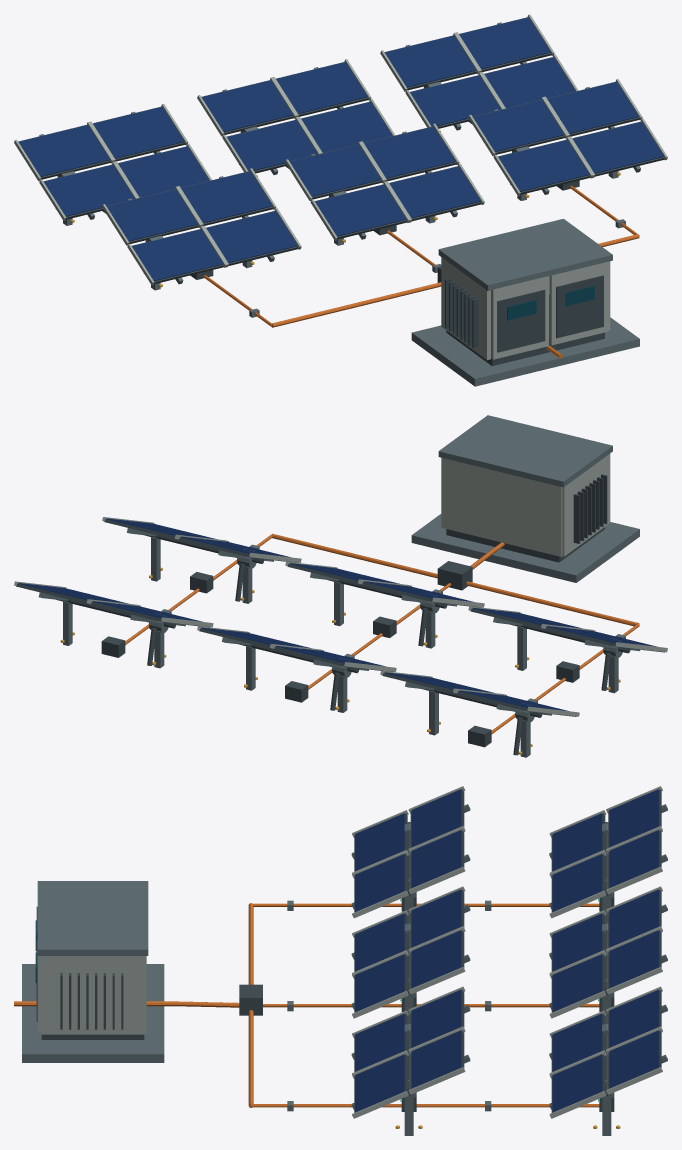
Rendered from solar_power_complex_lod1_d0.glb.
3 views of the same model, one above another, from view 1: azimuth 30°, elevation 25°; view 2: azimuth 150°, elevation 25°; view 3: azimuth 270°, elevation 25° (orthographic). The views are drawn at different scales.
Visible parts, largest first — view 1: SOLAR_GAME_MESH, SOLAR_GAME_MESH.001, SOLAR_GAME_MESH.002, SOLAR_GAME_MESH.003, SOLAR_GAME_MESH.004, SOLAR_GAME_MESH.006, SOLAR_GAME_MESH.005; view 2: SOLAR_GAME_MESH, SOLAR_GAME_MESH.002, SOLAR_GAME_MESH.001, SOLAR_GAME_MESH.004, SOLAR_GAME_MESH.005, SOLAR_GAME_MESH.006, SOLAR_GAME_MESH.003; view 3: SOLAR_GAME_MESH, SOLAR_GAME_MESH.001, SOLAR_GAME_MESH.002, SOLAR_GAME_MESH.003, SOLAR_GAME_MESH.005, SOLAR_GAME_MESH.006, SOLAR_GAME_MESH.004.
Boxes of the visible parts, x1,y1,x2,y2 form: SOLAR_GAME_MESH: [57, 81, 639, 386]; SOLAR_GAME_MESH.001: [102, 168, 301, 285]; SOLAR_GAME_MESH.002: [285, 123, 484, 240]; SOLAR_GAME_MESH.003: [468, 79, 667, 195]; SOLAR_GAME_MESH.004: [14, 103, 211, 220]; SOLAR_GAME_MESH.006: [380, 14, 578, 130]; SOLAR_GAME_MESH.005: [197, 59, 395, 174]; SOLAR_GAME_MESH: [56, 415, 639, 757]; SOLAR_GAME_MESH.002: [285, 561, 484, 607]; SOLAR_GAME_MESH.001: [468, 606, 667, 652]; SOLAR_GAME_MESH.004: [380, 670, 579, 716]; SOLAR_GAME_MESH.005: [197, 626, 396, 671]; SOLAR_GAME_MESH.006: [14, 581, 213, 627]; SOLAR_GAME_MESH.003: [102, 517, 301, 562]; SOLAR_GAME_MESH: [14, 822, 620, 1135]; SOLAR_GAME_MESH.001: [351, 786, 470, 918]; SOLAR_GAME_MESH.002: [351, 886, 470, 1018]; SOLAR_GAME_MESH.003: [351, 986, 470, 1118]; SOLAR_GAME_MESH.005: [549, 886, 667, 1018]; SOLAR_GAME_MESH.006: [549, 986, 667, 1118]; SOLAR_GAME_MESH.004: [549, 786, 667, 918].
Size of the model in its own units: 16.89 by 2.86 by 16.55.
